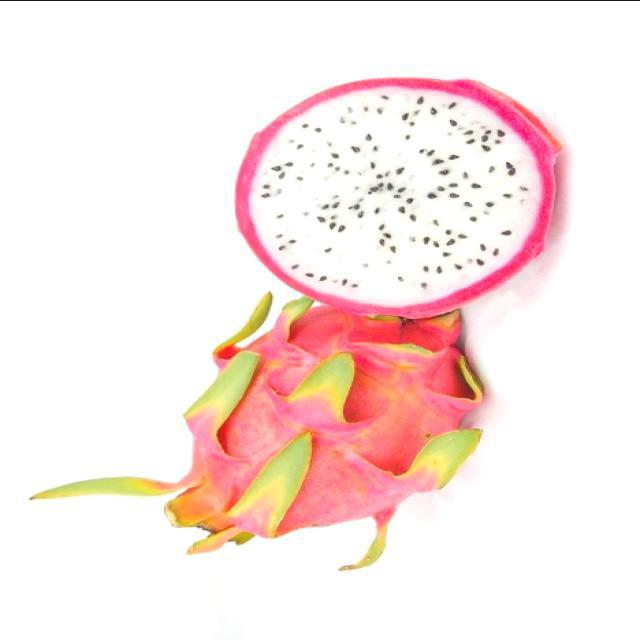trang: (30, 300, 488, 570), (229, 72, 567, 314)
